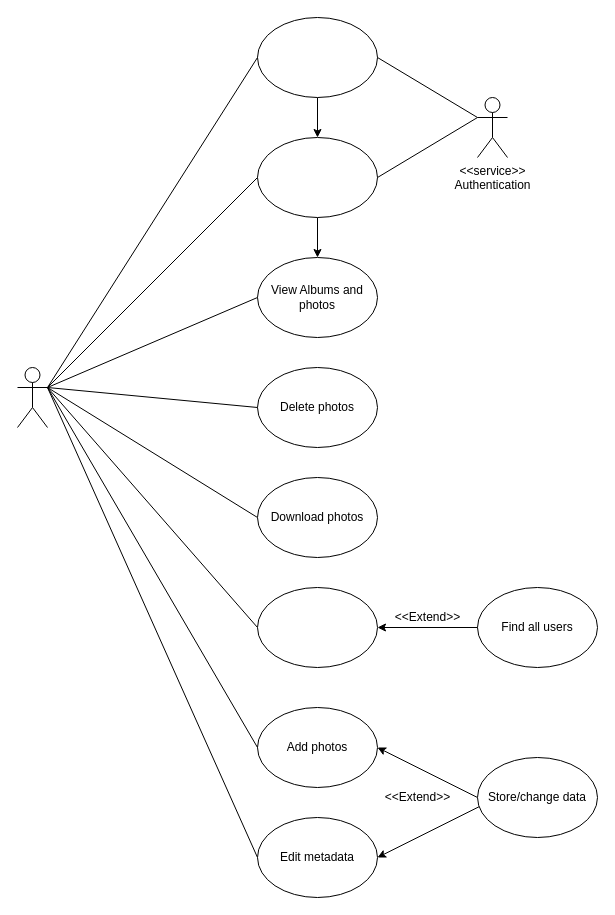
Some shapes in this 615 by 915 pixel diagram are drawn without their labels. Here are the shapes that lost their labels. From the top down, the centre of each, then its label:
At (317,57): "Register".
At (317,177): "Login".
At (32,397): "User".
At (317,627): "Share/make visible to other users".
